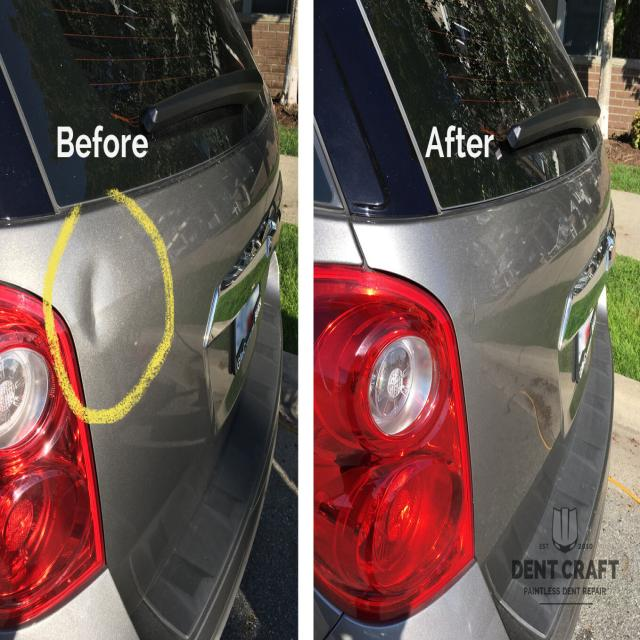dent: (73, 258, 125, 348)
